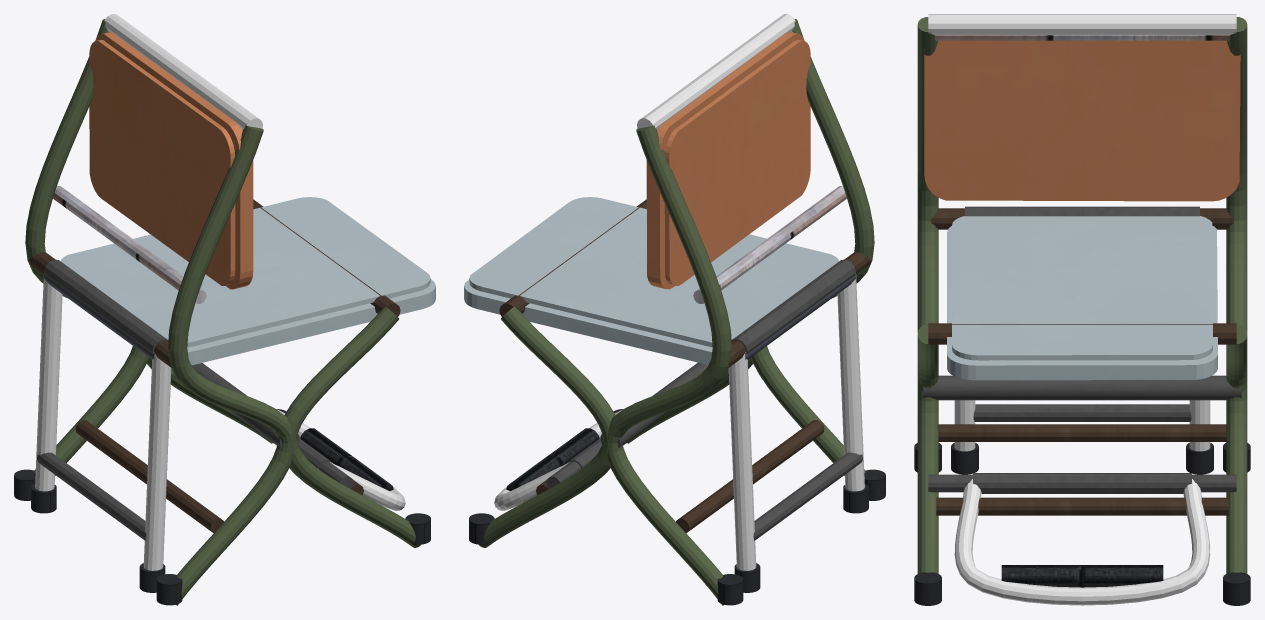
The model's file is Chair_Folding_chair__0352.glb.
3 views of the same model, side by side, from view 1: azimuth 30°, elevation 25°; view 2: azimuth 150°, elevation 25°; view 3: azimuth 270°, elevation 25° (orthographic). The views are drawn at different scales.
Parts seen in each view (by area): view 1: seat_pan::seat_pad, rear_leg_frame::backrest_pad, rear_leg_frame::rear_upright_l, rear_leg_frame::rear_upright_r, front_leg_frame::front_leg_l, rear_under_frame::rear_under_leg_0, rear_under_frame::rear_under_leg_1, rear_leg_frame::back_rail_top, rear_under_frame::rear_under_hinge, rear_leg_frame::rear_cross_brace, rear_leg_frame::back_mount_lower, rear_under_frame::rear_under_brace (+11 smaller); view 2: seat_pan::seat_pad, rear_leg_frame::backrest_pad, rear_leg_frame::rear_upright_r, rear_leg_frame::rear_upright_l, front_leg_frame::front_leg_r, rear_under_frame::rear_under_leg_1, rear_under_frame::rear_under_leg_0, rear_leg_frame::back_rail_top, rear_under_frame::rear_under_hinge, rear_leg_frame::rear_cross_brace, rear_leg_frame::back_mount_lower, rear_under_frame::rear_under_brace (+11 smaller); view 3: rear_leg_frame::backrest_pad, seat_pan::seat_pad, footrest_bar::footrest_loop, rear_leg_frame::back_rail_top, rear_leg_frame::scissor_bolt, rear_leg_frame::rear_cross_brace, front_leg_frame::front_cross_brace, front_leg_frame::front_leg_l, front_leg_frame::front_leg_r, rear_leg_frame::rear_upright_r, rear_leg_frame::rear_upright_l, footrest_bar::footrest_hinge_axle (+13 smaller).
Boxes of the visible parts, x1,y1,x2,y2 form: seat_pan::seat_pad: (61,197,435,365); rear_leg_frame::backrest_pad: (89,32,253,289); rear_leg_frame::rear_upright_l: (168,125,292,605); rear_leg_frame::rear_upright_r: (25,19,148,475); front_leg_frame::front_leg_l: (284,306,420,547); rear_under_frame::rear_under_leg_0: (143,352,171,570); rear_under_frame::rear_under_leg_1: (35,273,62,491); rear_leg_frame::back_rail_top: (104,14,262,129); rear_under_frame::rear_under_hinge: (44,259,168,354); rear_leg_frame::rear_cross_brace: (75,420,223,533); rear_leg_frame::back_mount_lower: (53,186,206,303); rear_under_frame::rear_under_brace: (37,452,146,540); seat_pan::seat_pad: (464,197,838,364); rear_leg_frame::backrest_pad: (646,32,810,289); rear_leg_frame::rear_upright_r: (607,125,731,605); rear_leg_frame::rear_upright_l: (751,19,874,475); front_leg_frame::front_leg_r: (479,306,615,547); rear_under_frame::rear_under_leg_1: (728,352,756,570); rear_under_frame::rear_under_leg_0: (837,273,864,491); rear_leg_frame::back_rail_top: (637,14,795,129); rear_under_frame::rear_under_hinge: (731,259,855,354); rear_leg_frame::rear_cross_brace: (676,420,824,533); rear_leg_frame::back_mount_lower: (693,186,846,303); rear_under_frame::rear_under_brace: (753,452,862,540); rear_leg_frame::backrest_pad: (924,40,1240,201); seat_pan::seat_pad: (947,216,1217,380); footrest_bar::footrest_loop: (954,479,1210,605); rear_leg_frame::back_rail_top: (928,14,1236,35); rear_leg_frame::scissor_bolt: (923,375,1241,400); rear_leg_frame::rear_cross_brace: (938,424,1226,441); front_leg_frame::front_cross_brace: (936,497,1228,515); front_leg_frame::front_leg_l: (917,324,938,573); front_leg_frame::front_leg_r: (1226,324,1247,573); rear_leg_frame::rear_upright_r: (1226,17,1247,332); rear_leg_frame::rear_upright_l: (917,17,938,332); footrest_bar::footrest_hinge_axle: (973,473,1191,493).
Size of the model in its own units: 0.452 by 0.6823 by 0.4114.
Materials: 10 (8 with a texture image).
